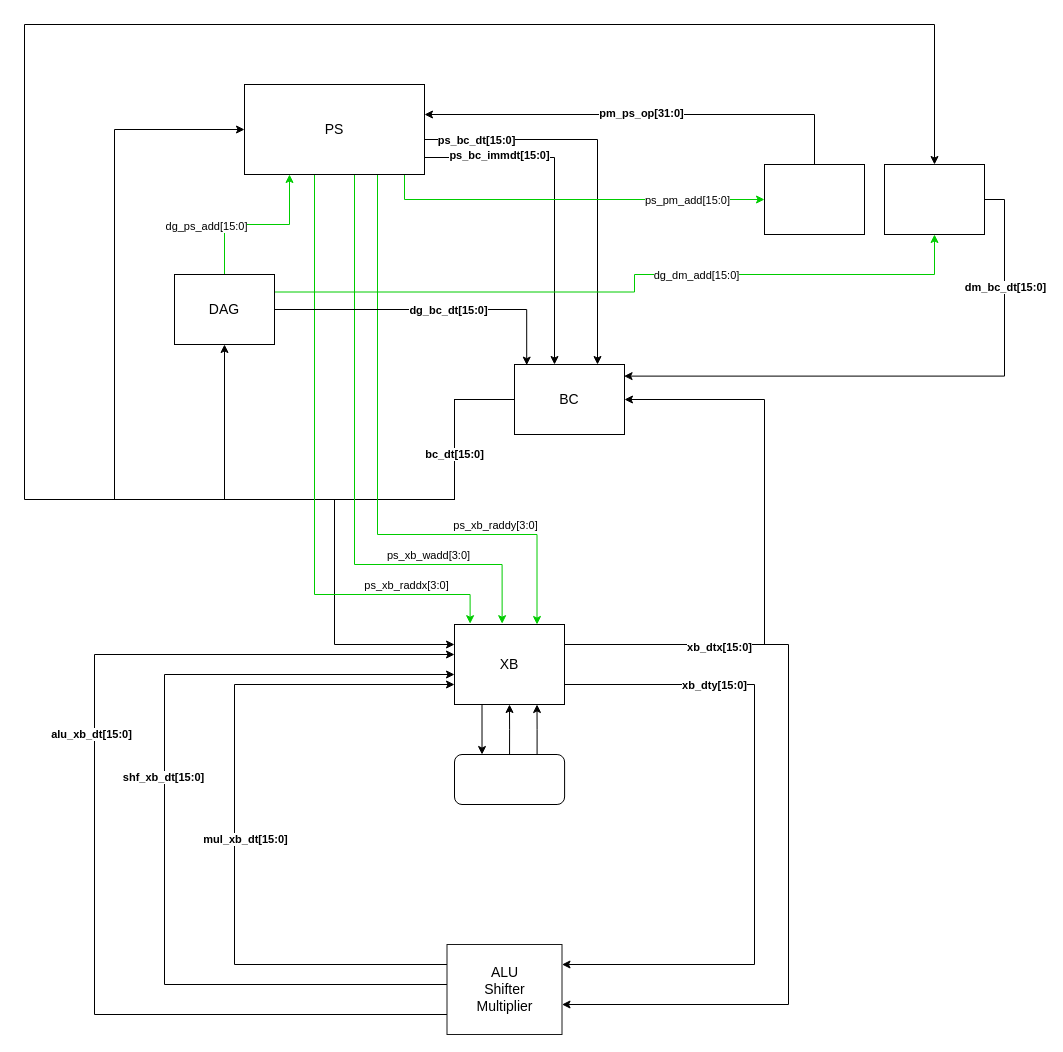
Image size: 1063x1052. Some labels were removed from this diagram. The shapes that lost their labels are listed below. From the top down, each one's box as (x1, y1, x2, y2) in pixels, then its label:
(764, 164, 864, 234): PM
(884, 164, 984, 234): DM
(454, 754, 565, 804): RF
